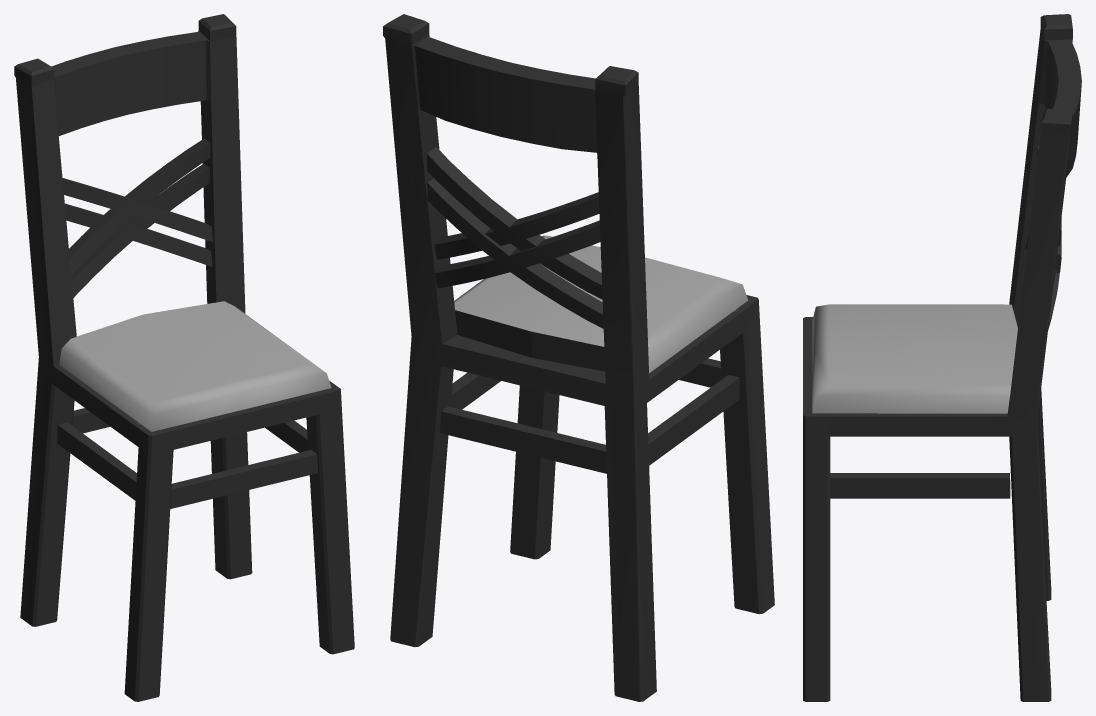
Rendered from chair.fbx.
3 views of the same model, side by side, from view 1: azimuth 30°, elevation 25°; view 2: azimuth 150°, elevation 25°; view 3: azimuth 270°, elevation 25° (orthographic). The views are drawn at different scales.
Visible parts, largest first — view 1: chair; view 2: chair; view 3: chair.
Part boxes in pixels (x1,y1,x2,y2): chair: (14, 14, 354, 701); chair: (383, 14, 774, 701); chair: (803, 14, 1081, 701).
Bounding box in the file's own units: 1.72 × 4.06 × 1.78.
2 materials, 2 textured.
